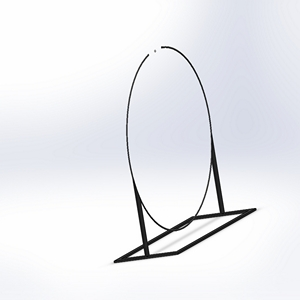circle: (110, 43, 256, 264)
